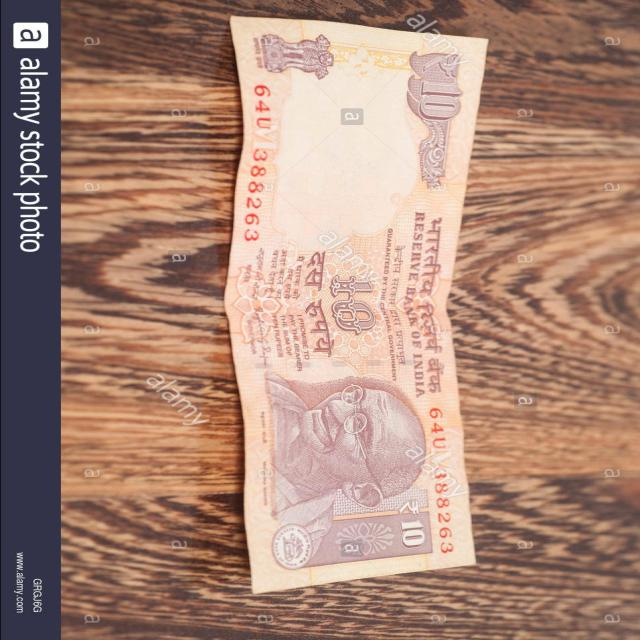10IndianRupees: (235, 14, 477, 583)
